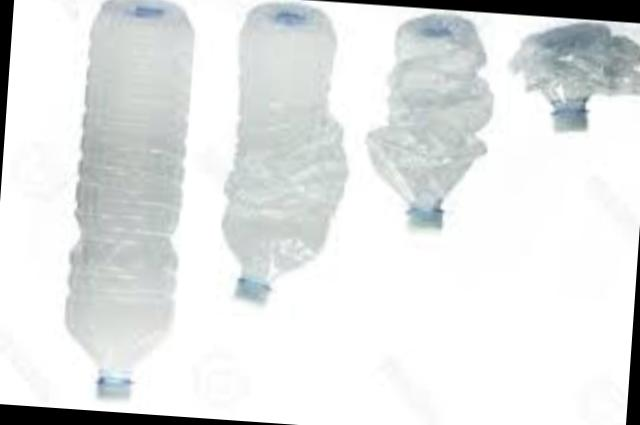plastic: (62, 2, 189, 400), (219, 8, 343, 306), (364, 19, 488, 231), (513, 23, 640, 132)
